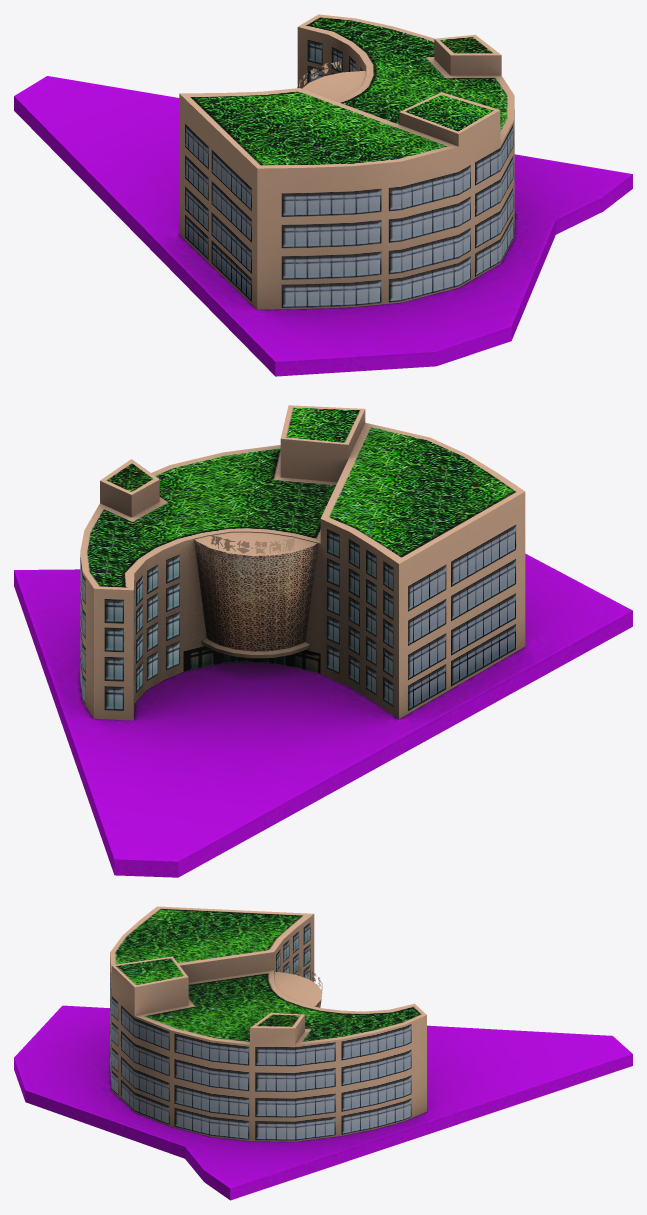
Rendered from hdh.gltf.
3 renders of one model, top to bottom at view 1: azimuth 30°, elevation 25°; view 2: azimuth 150°, elevation 25°; view 3: azimuth 270°, elevation 25°, orthographic. The views are drawn at different scales.
Visible parts, largest first — view 1: polySurface30; view 2: polySurface30; view 3: polySurface30.
Boxes of the visible parts, box(x1,y1,x2,y2) form: polySurface30: box(14, 14, 632, 376); polySurface30: box(14, 405, 632, 877); polySurface30: box(14, 906, 632, 1200).
Size of the model in its own units: 16.5 by 5.76 by 23.58.
1 material, 1 textured.
